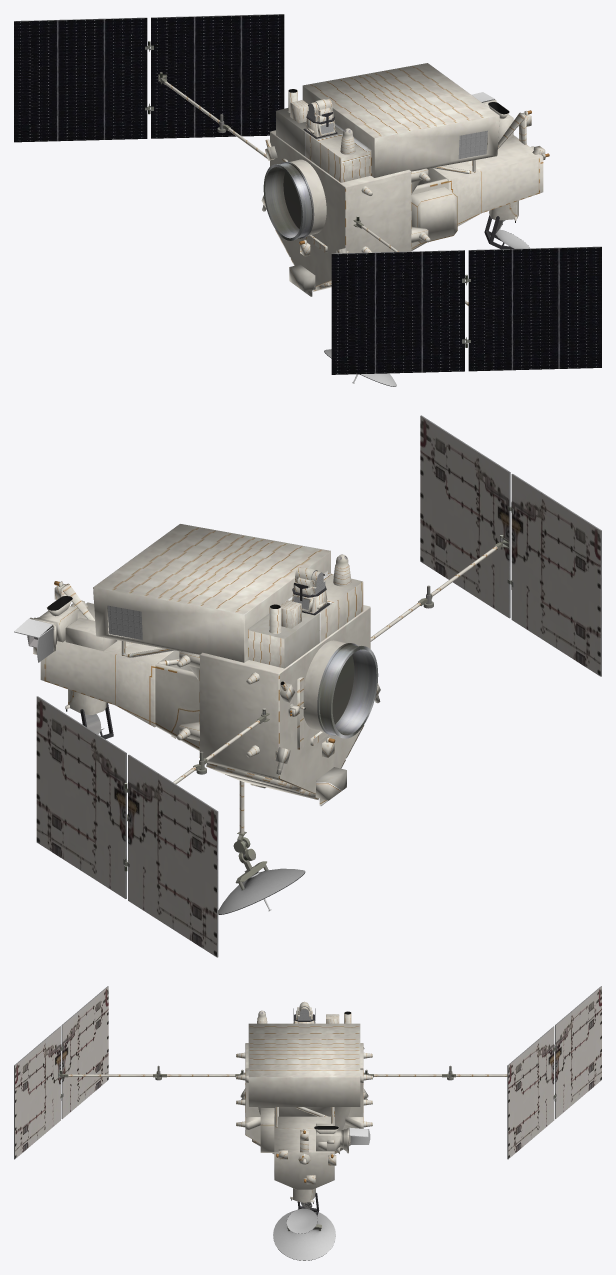
The model's file is TRMM.gltf.
3 views of the same model, one above another, from view 1: azimuth 30°, elevation 25°; view 2: azimuth 150°, elevation 25°; view 3: azimuth 270°, elevation 25° (orthographic). The views are drawn at different scales.
Visible parts, largest first — view 1: shiny_panel, BUS, foil_white_2, tex_01, AO_dish; view 2: tex_01, BUS, foil_white_2, shiny_panel, AO_dish; view 3: tex_01, BUS, AO_dish, foil_white_2.
Part boxes in pixels (<box>): shiny_panel: <box>14,14,601,374</box>; BUS: <box>270,63,543,291</box>; foil_white_2: <box>164,81,545,305</box>; tex_01: <box>14,14,601,386</box>; AO_dish: <box>324,92,529,386</box>; tex_01: <box>27,415,601,957</box>; BUS: <box>29,524,370,799</box>; foil_white_2: <box>33,546,497,833</box>; shiny_panel: <box>107,572,378,738</box>; AO_dish: <box>14,618,304,914</box>; tex_01: <box>14,986,601,1260</box>; BUS: <box>245,1023,363,1202</box>; AO_dish: <box>273,1127,370,1260</box>; foil_white_2: <box>68,1001,507,1184</box>.
Bounding box in the file's own units: 6.34 × 5.44 × 12.62.
Materials: 5 (5 with a texture image).
